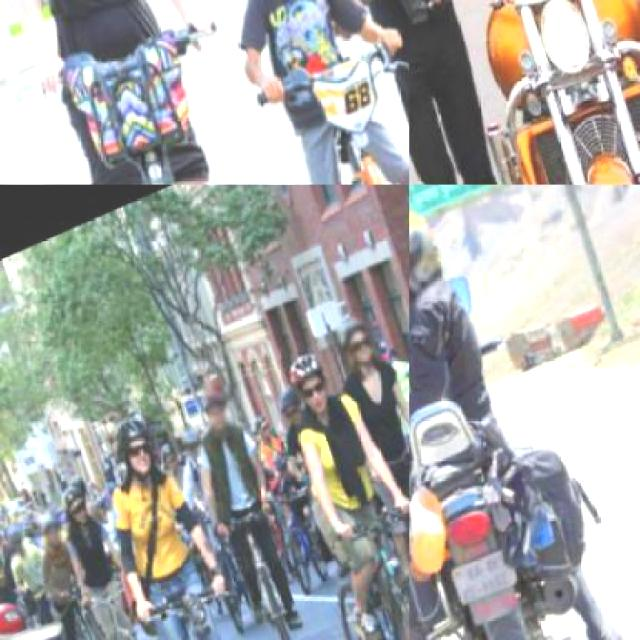With Helmet: (277, 343, 355, 434), (409, 197, 462, 325), (103, 403, 177, 494), (332, 310, 393, 378), (196, 376, 249, 446), (52, 475, 110, 537), (274, 381, 317, 433), (37, 504, 78, 553), (180, 422, 215, 463), (6, 521, 40, 559)
